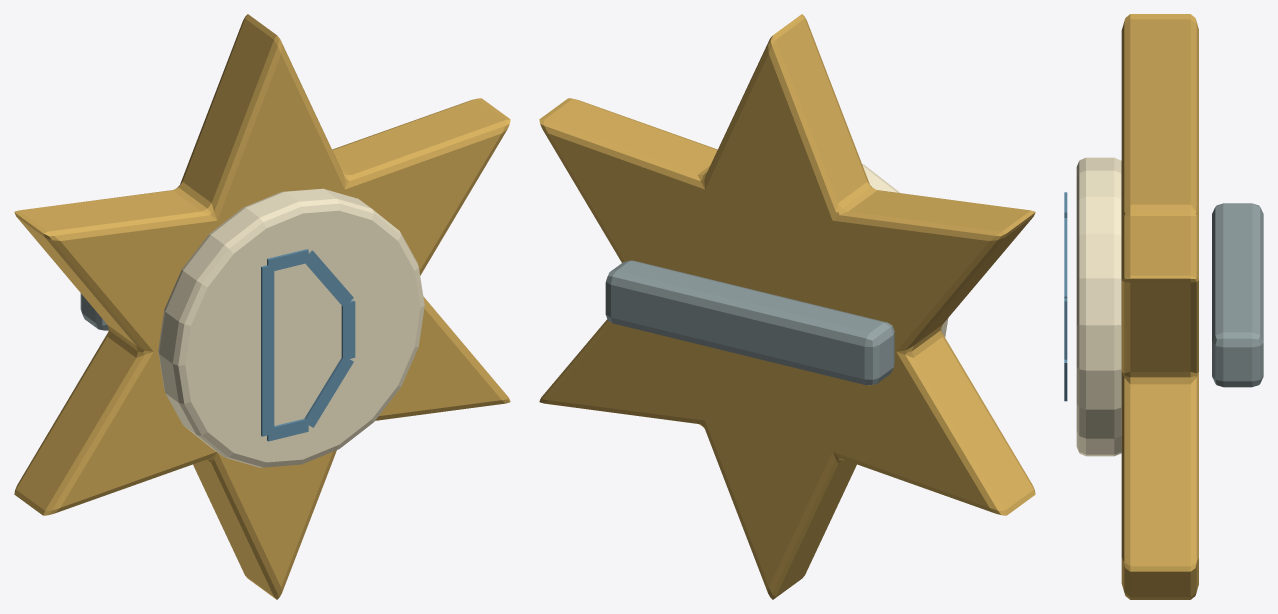
File: P017_detective_badge.glb
3 views of the same model, side by side, from view 1: azimuth 30°, elevation 25°; view 2: azimuth 150°, elevation 25°; view 3: azimuth 270°, elevation 25° (orthographic). The views are drawn at different scales.
Visible parts, largest first — view 1: P017_badge_001, P017_center_002, P017_letter_003; view 2: P017_badge_001, P017_back_pin_004; view 3: P017_badge_001, P017_center_002, P017_back_pin_004, P017_letter_003.
Boxes of the visible parts, x1=… form: P017_badge_001: x1=14, y1=14, x2=510, y2=599; P017_center_002: x1=158, y1=188, x2=424, y2=467; P017_letter_003: x1=261, y1=249, x2=355, y2=441; P017_badge_001: x1=539, y1=14, x2=1035, y2=599; P017_back_pin_004: x1=605, y1=260, x2=894, y2=385; P017_badge_001: x1=1121, y1=14, x2=1198, y2=599; P017_center_002: x1=1076, y1=157, x2=1121, y2=456; P017_back_pin_004: x1=1212, y1=203, x2=1263, y2=387; P017_letter_003: x1=1064, y1=192, x2=1067, y2=401.
Size of the model in its own units: 0.1302 by 0.1504 by 0.0463.
